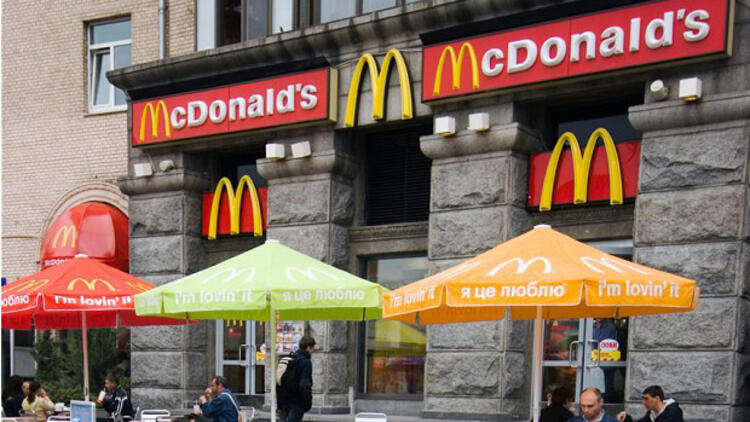mcdonalds: (533, 122, 629, 216), (341, 48, 417, 130), (207, 170, 268, 242), (428, 39, 481, 101), (132, 95, 170, 145)
